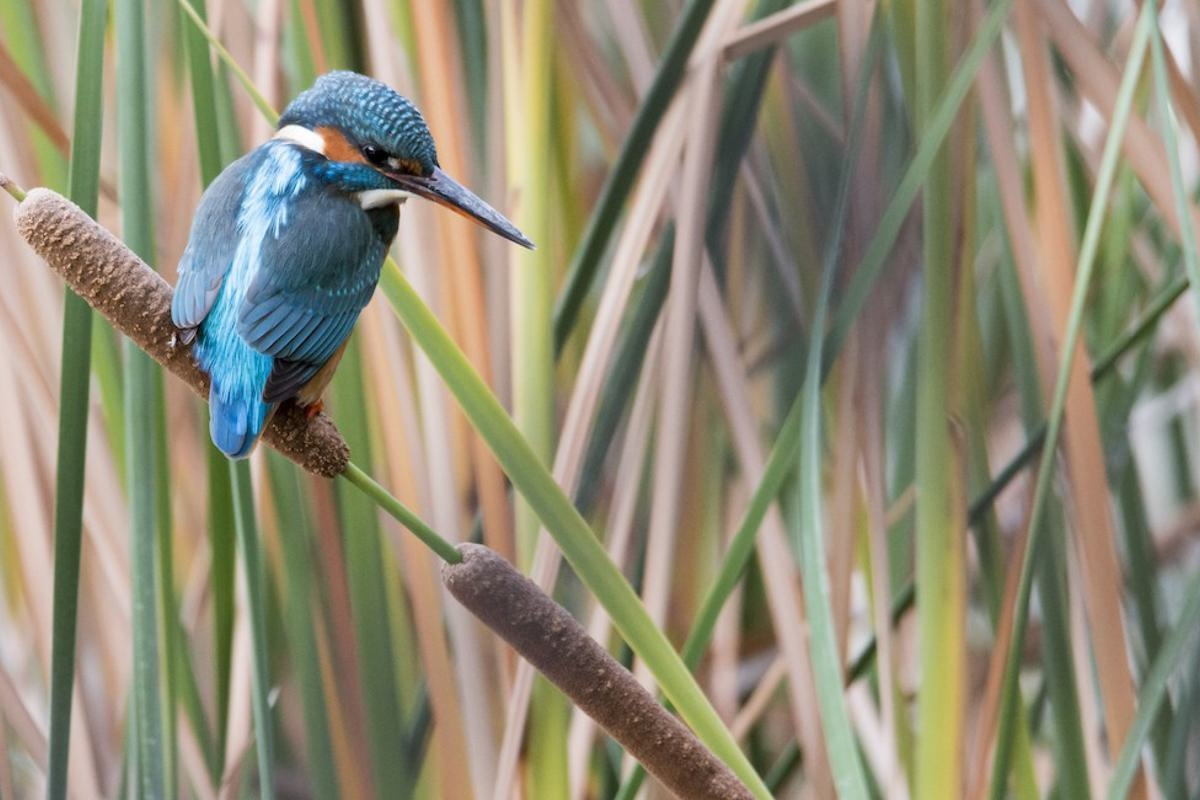kingfisher: (181, 47, 548, 493)
